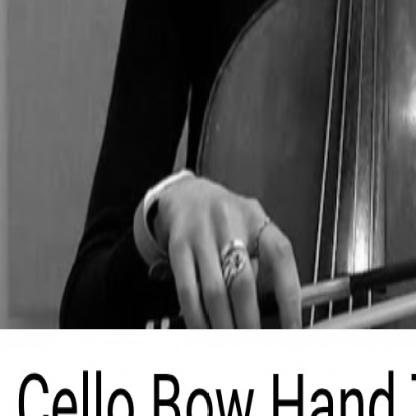good: (154, 152, 312, 328)
